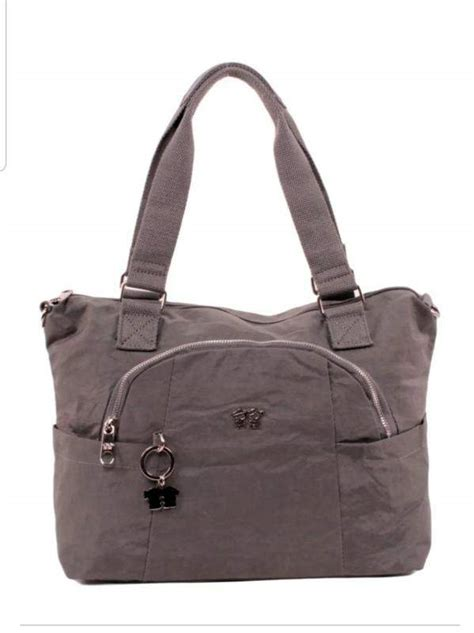nylon: (40, 288, 440, 584)
